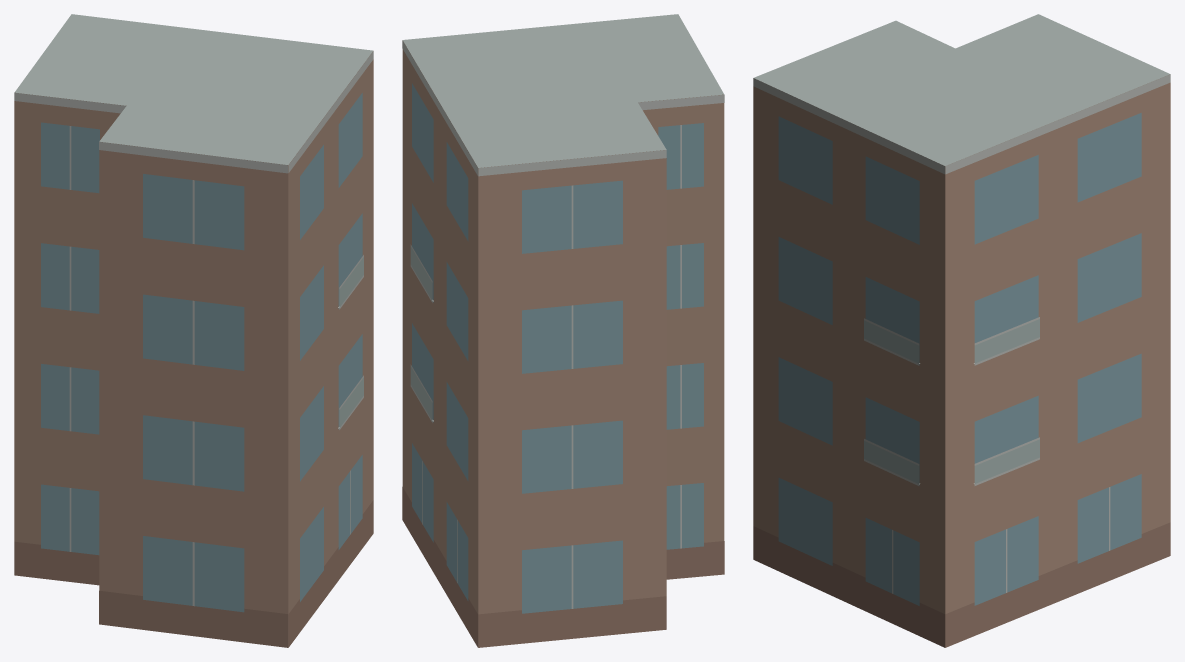
Rendered from survey-upis-32933824.glb.
3 views of the same model, side by side, from view 1: azimuth 30°, elevation 25°; view 2: azimuth 150°, elevation 25°; view 3: azimuth 270°, elevation 25° (orthographic).
Visible parts, largest first — view 1: survey-upis-32933824.tmp; view 2: survey-upis-32933824.tmp; view 3: survey-upis-32933824.tmp.
Part boxes in pixels (x1,y1,x2,y2): survey-upis-32933824.tmp: (14,14,373,647); survey-upis-32933824.tmp: (402,14,724,647); survey-upis-32933824.tmp: (753,14,1170,647).
Size of the model in its own units: 9.56 by 14.1 by 11.08.
